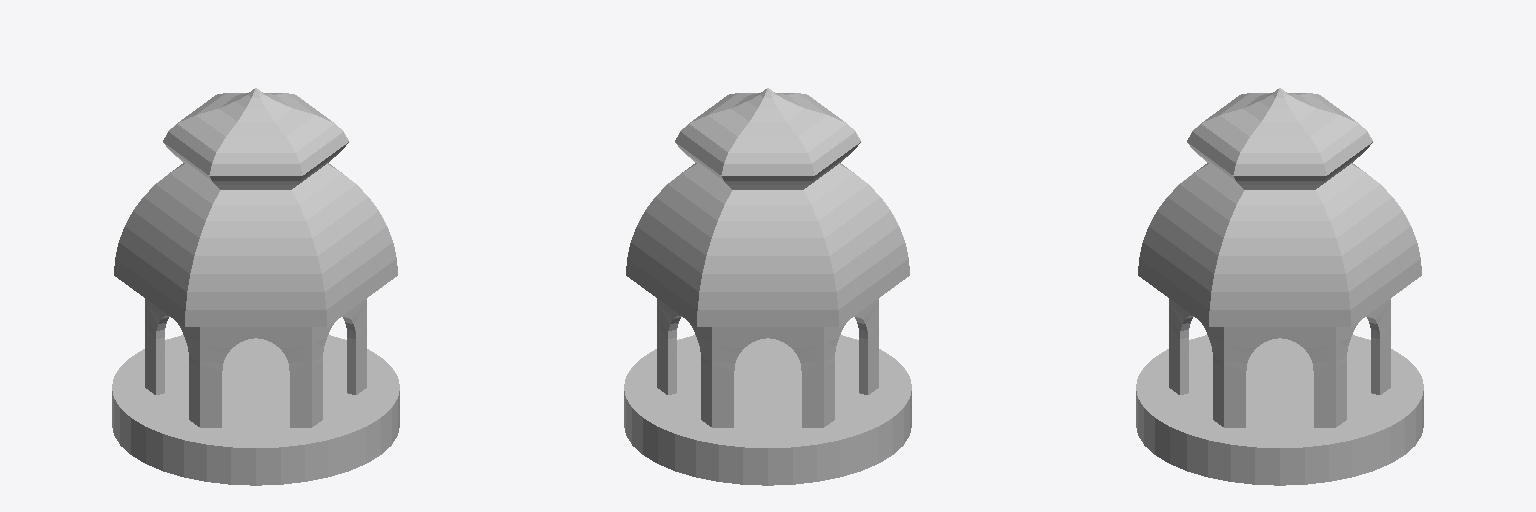
File: gazeboUV.obj
The picture shows the model from 3 angles: view 1: azimuth 30°, elevation 25°; view 2: azimuth 150°, elevation 25°; view 3: azimuth 270°, elevation 25°; orthographic projection.
Visible parts, largest first — view 1: roof_Sphere, Cylinder_Cylinder.003, pillarSharp_Cylinder; view 2: roof_Sphere, Cylinder_Cylinder.003, pillarSharp_Cylinder; view 3: roof_Sphere, Cylinder_Cylinder.003, pillarSharp_Cylinder.
Part boxes in pixels (bbox=[...]): roof_Sphere: bbox=[114, 88, 397, 326]; Cylinder_Cylinder.003: bbox=[112, 335, 399, 485]; pillarSharp_Cylinder: bbox=[145, 299, 366, 427]; roof_Sphere: bbox=[626, 88, 909, 326]; Cylinder_Cylinder.003: bbox=[624, 335, 911, 485]; pillarSharp_Cylinder: bbox=[657, 299, 878, 427]; roof_Sphere: bbox=[1138, 88, 1421, 326]; Cylinder_Cylinder.003: bbox=[1136, 335, 1423, 485]; pillarSharp_Cylinder: bbox=[1169, 299, 1390, 427].
Size of the model in its own units: 7 by 9.04 by 7.